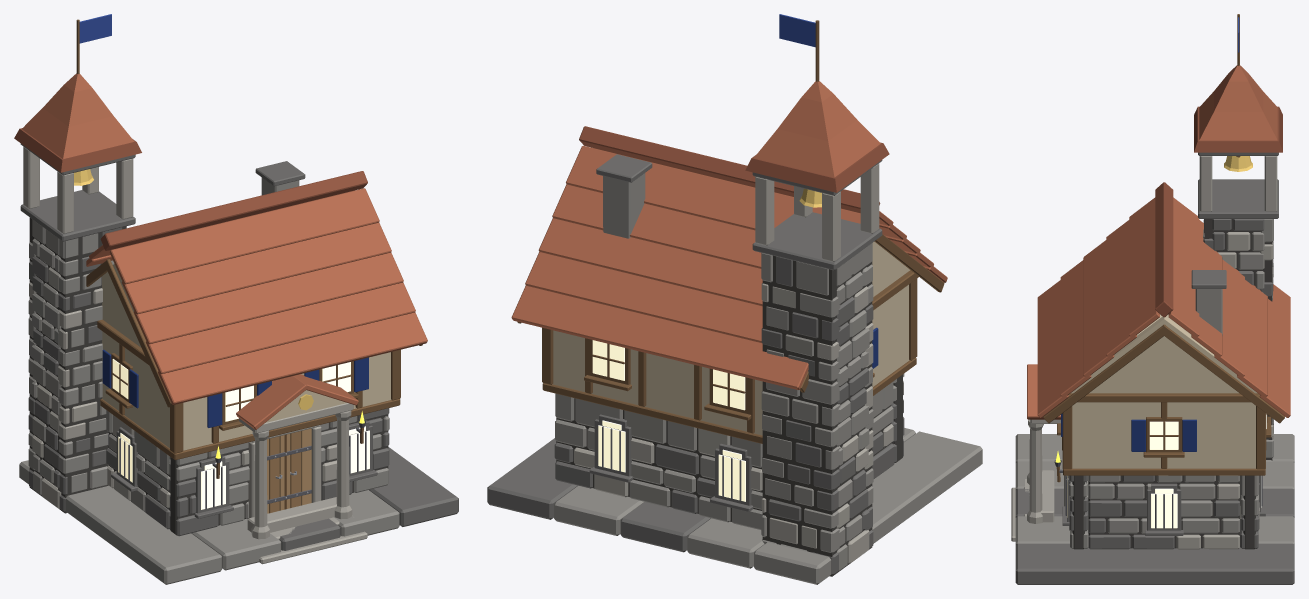
Rendered from town_hall_1.glb.
3 renders of one model, left to right at view 1: azimuth 30°, elevation 25°; view 2: azimuth 150°, elevation 25°; view 3: azimuth 270°, elevation 25°, orthographic. The views are drawn at different scales.
Parts seen in each view (by area): view 1: TownHall; view 2: TownHall; view 3: TownHall.
Part boxes in pixels (<box>): TownHall: <box>14,14,458,584</box>; TownHall: <box>487,14,982,584</box>; TownHall: <box>1011,14,1294,584</box>.
Size of the model in its own units: 7.43 by 11 by 6.3.
